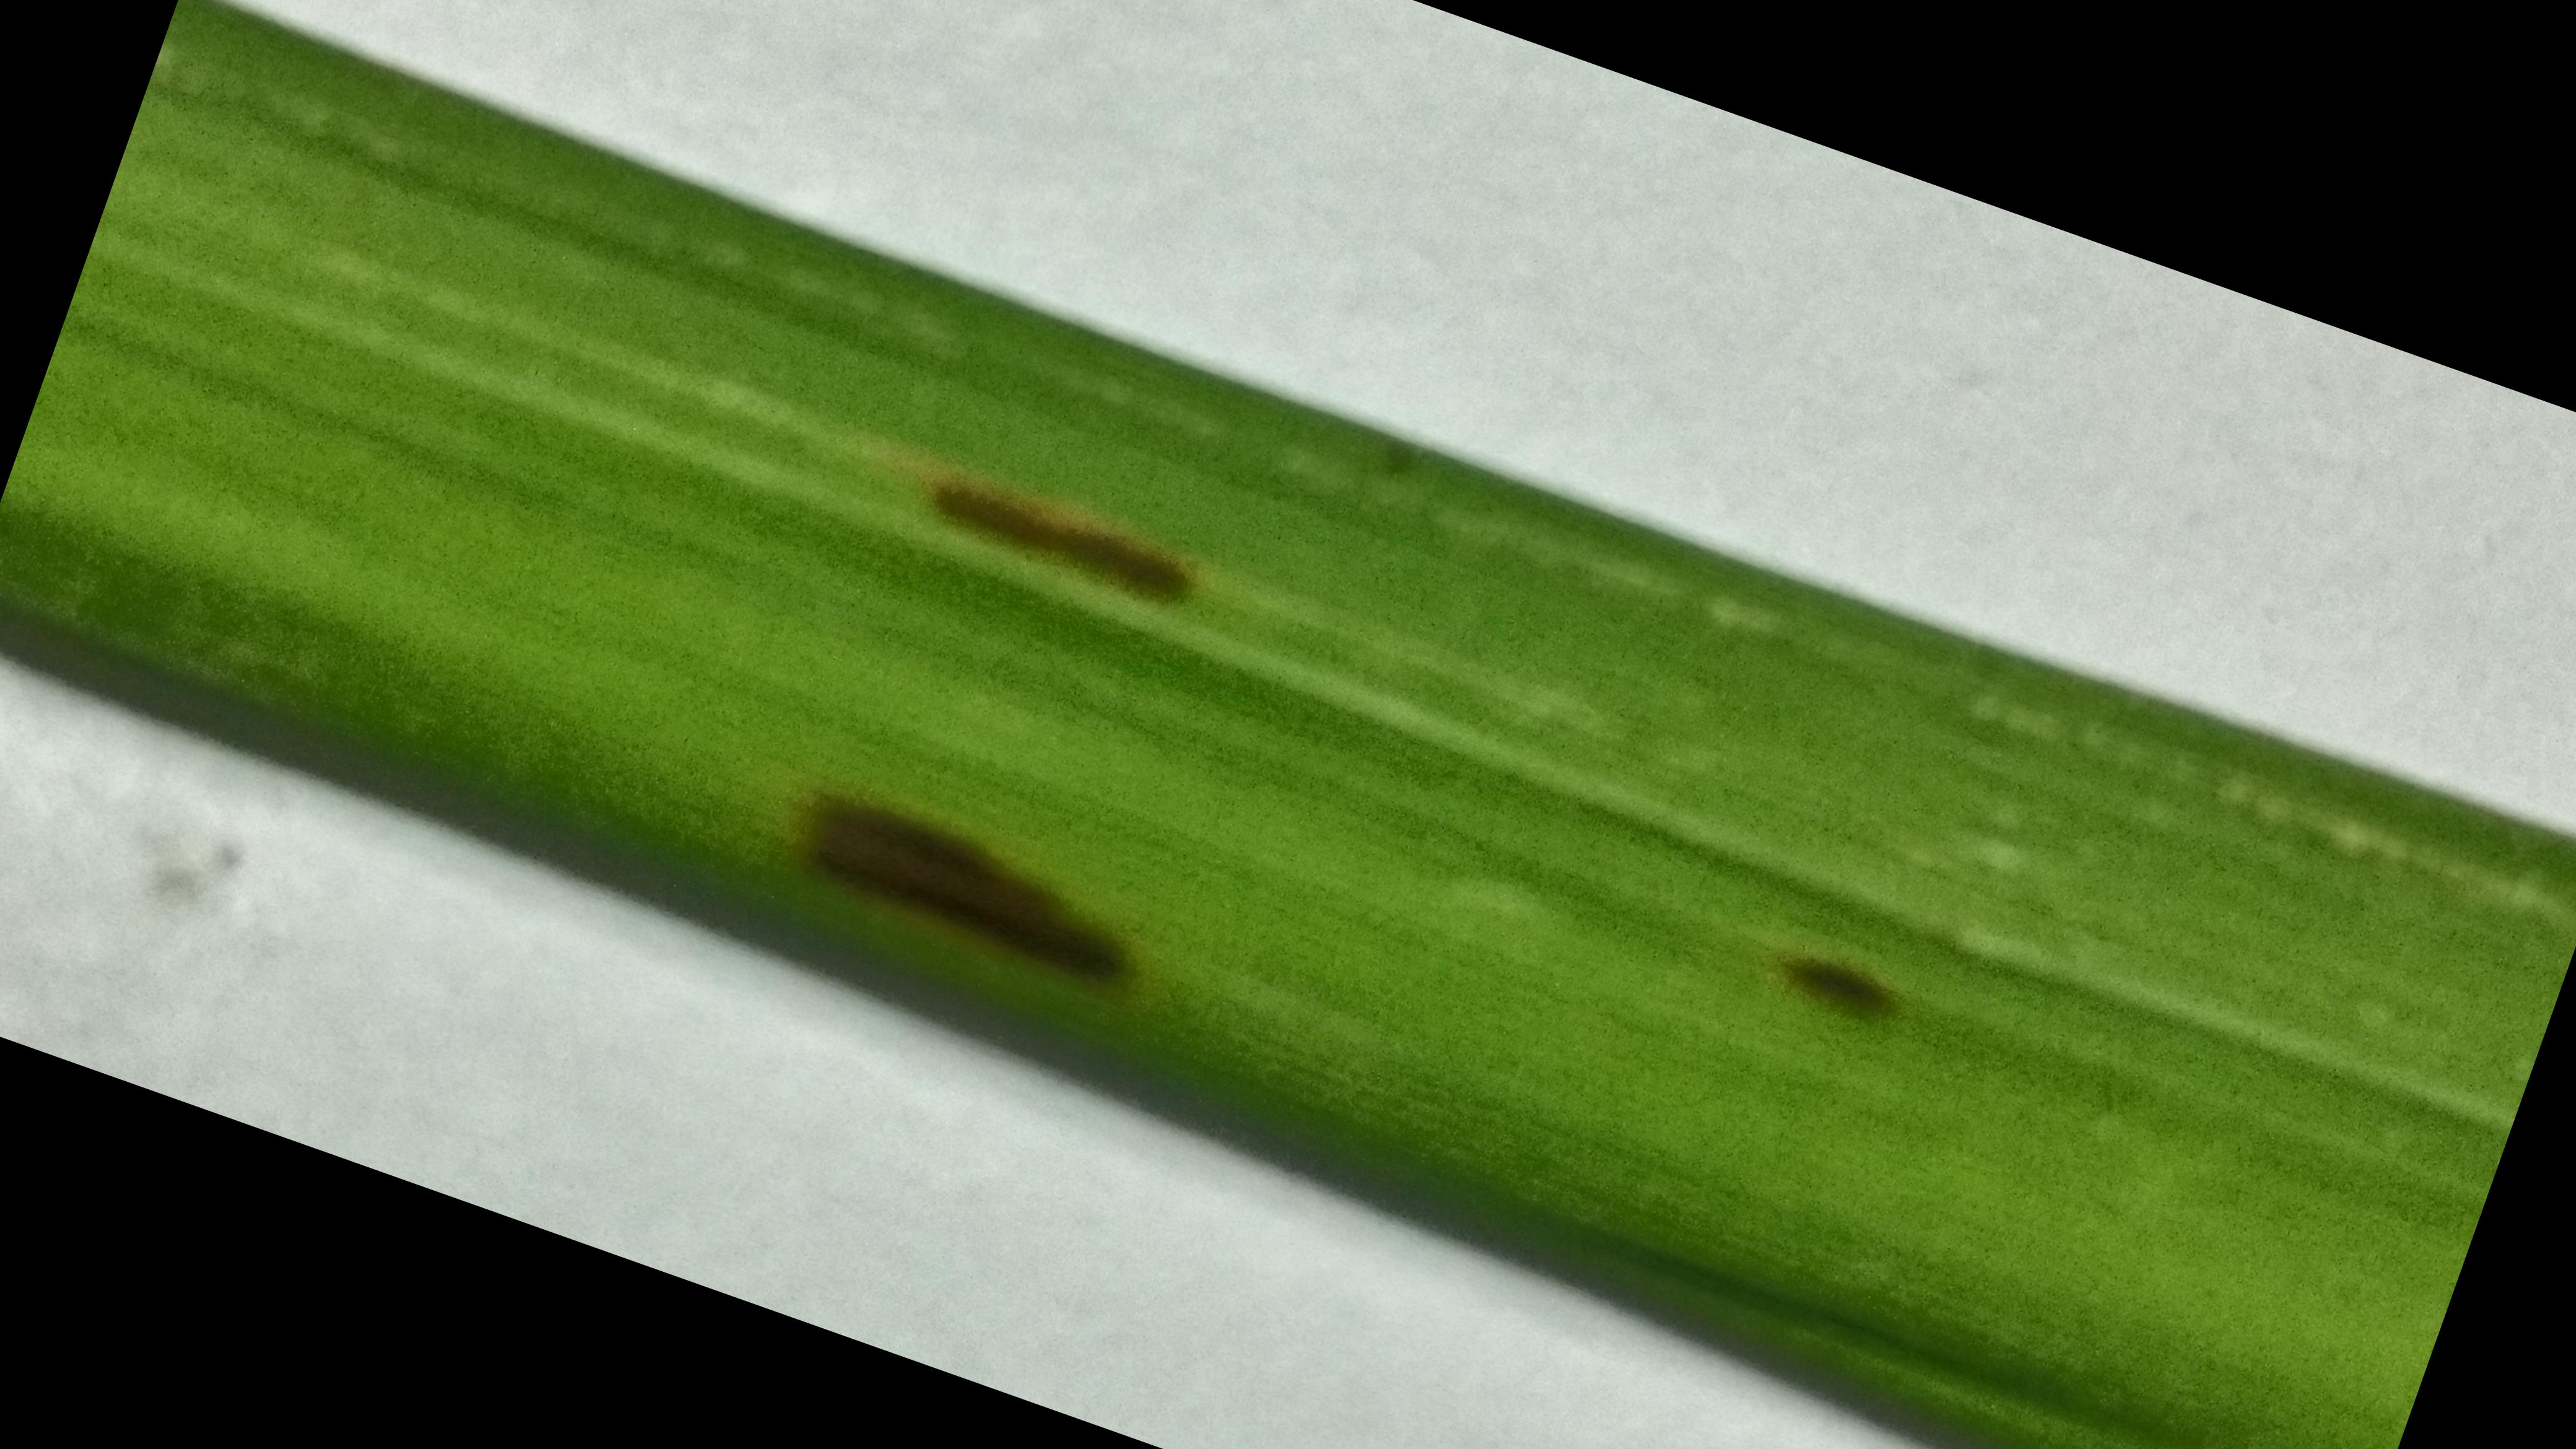leaf_smut: (777, 462, 1928, 1046)
